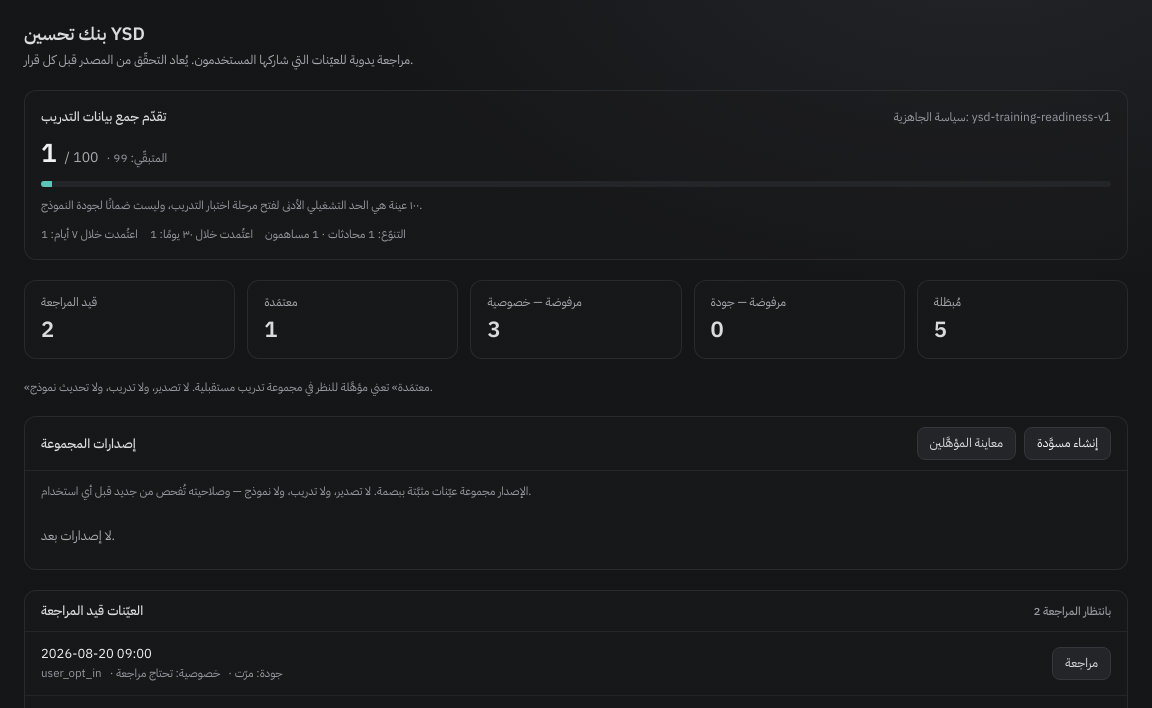
Test: ★ (١″) الطابور — تنقّلٌ لا حكم › ★ ★ ★ وبعد القرار يظهر زرُّ «التالية» بعددِ المتبقّي
The width and height of the screenshot is (1152, 708).
Click the 1st button "مراجعة" at (1082, 663), box [1052,647,1111,680]
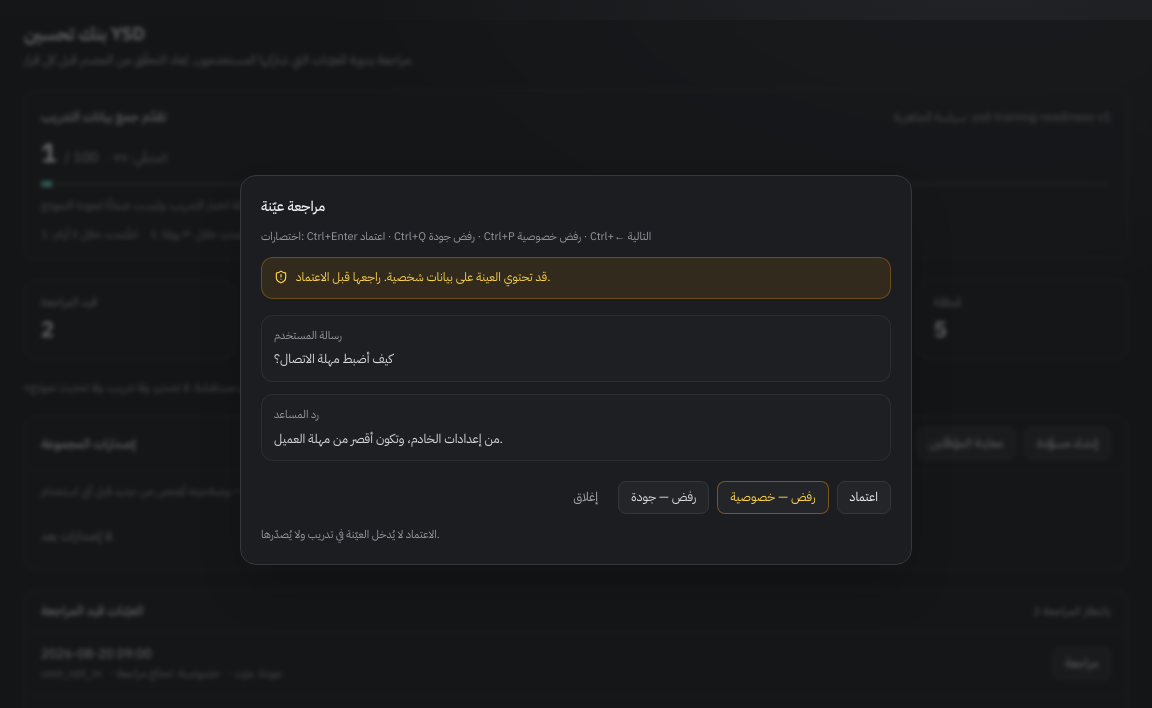
Click the button "اعتماد" at (864, 498), box [836,481,891,514]
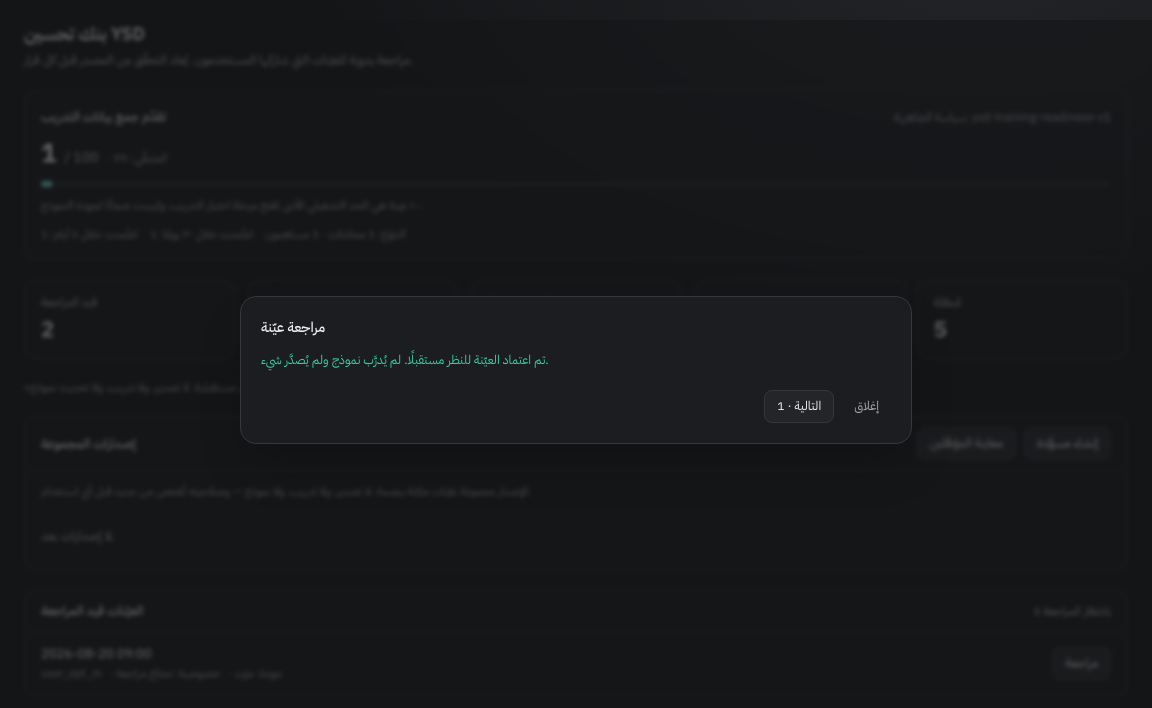
Now the button "التالية · 1" is shown, box [764,390,834,423]
